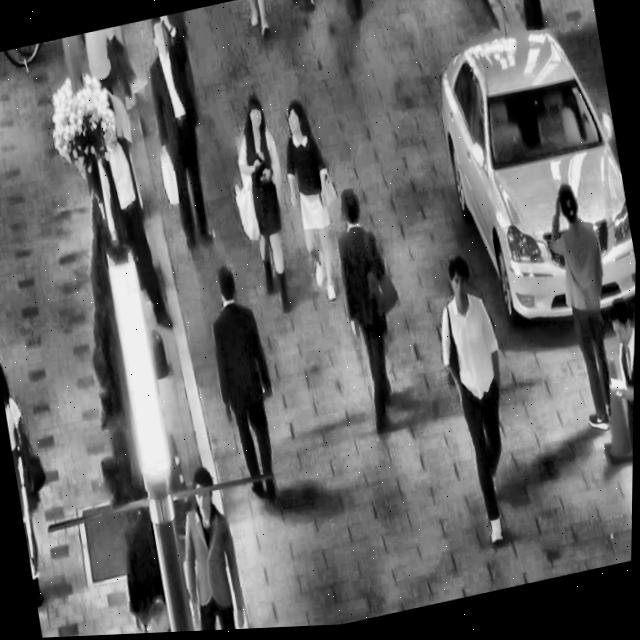light_vehicle: (419, 0, 640, 355)
